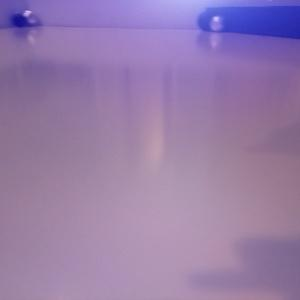alive_ball: (22, 9, 38, 26), (209, 15, 225, 31)
dead_ball: (197, 10, 215, 31), (12, 12, 26, 27)
